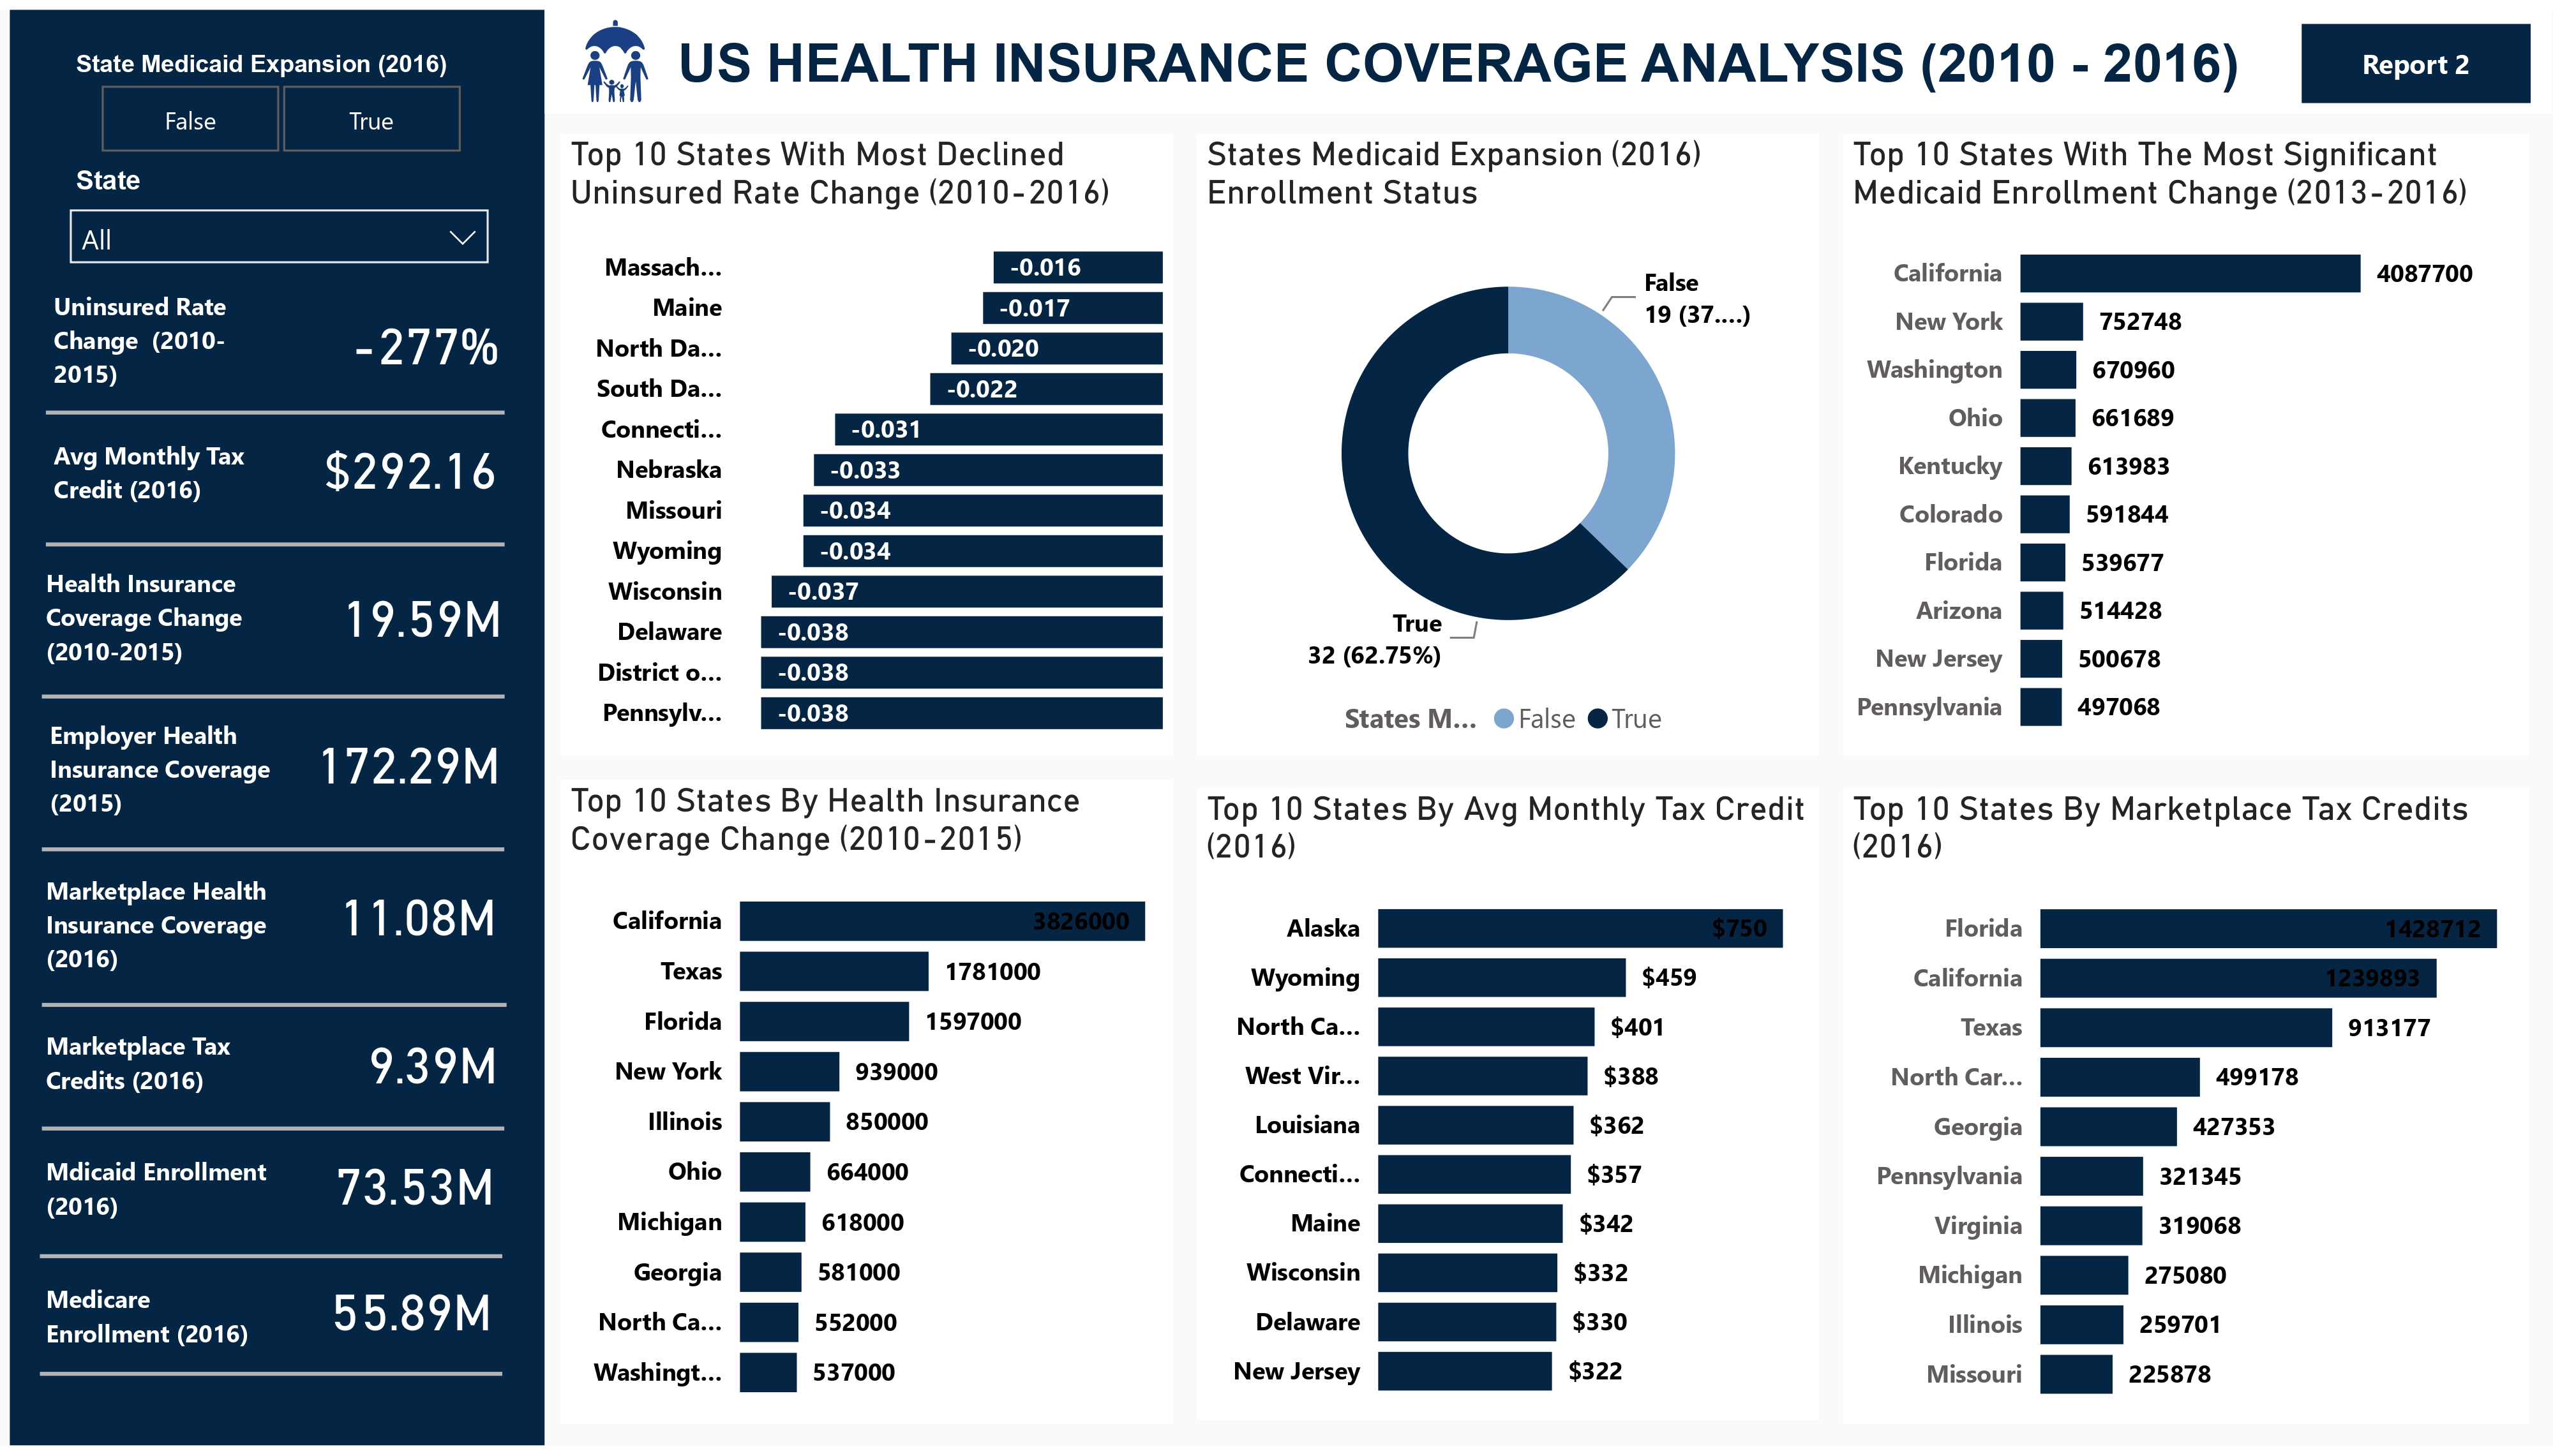

What the dashboard file says about the page in this screenshot:
{"tool":"powerbi","page":{"name":"REPORT 2","canvas":[1280,720],"ordinal":1},"visuals":[{"type":"shape","box":[5,0,268.4,719.7],"z":0},{"type":"card","fields":{"Values":["DAX.Avg Average Monthly Tax Credit (2016)"]},"box":[137.5,191.3,137.5,78],"z":1000},{"type":"card","fields":{"Values":["DAX.Formatted Health Insurance Coverage Change (2010-2015)"]},"box":[141.7,263.6,138.9,80.8],"z":2000},{"type":"card","fields":{"Values":["DAX.FORMATTED Employee Health Insurance Coverage (2015)"]},"box":[127.6,338.7,153.1,78],"z":3000},{"type":"card","fields":{"Values":["DAX.Formatted Marketplace Health Insurance Coverage (2016)"]},"box":[140.3,415.3,138.9,78],"z":4000},{"type":"shape","box":[23.3,249.6,230.4,36],"z":5000},{"type":"card","fields":{"Values":["DAX.Formatted Marketplace Tax Credit (2016)"]},"box":[146,487.6,141.7,80.8],"z":6000},{"type":"shape","box":[21.3,323.1,232.4,42.5],"z":7000},{"type":"shape","box":[21.3,399.9,231.8,41.8],"z":8000},{"type":"shape","box":[23.3,181.5,230.4,41.8],"z":9000},{"type":"shape","box":[21.3,477.6,233.3,41.8],"z":10000},{"type":"card","fields":{"Values":["DAX.Formatted Uninsured Rate Change (2010-2016)"]},"box":[144.6,127.6,136.1,79.4],"z":11000},{"type":"card","fields":{"Values":["DAX.Medicaid Enrollment (2016)"]},"box":[137.5,549.9,141.6,78.4],"z":12000},{"type":"textbox","box":[21.8,209.3,109.4,66.2],"z":13000},{"type":"textbox","box":[18.4,273.1,125.3,79.2],"z":14000},{"type":"textbox","box":[19.8,349.5,125.3,79.2],"z":15000},{"type":"textbox","box":[18.4,426.6,124.7,79.4],"z":16000},{"type":"textbox","box":[21.8,134,109.4,63.4],"z":17000},{"type":"textbox","box":[18.4,504.6,124.7,73.7],"z":18000},{"type":"shape","box":[21.3,540.3,231.8,41.8],"z":19000},{"type":"textbox","box":[18.4,568.4,125.3,60.5],"z":20000},{"type":"shape","box":[19.9,604.4,231.8,41.8],"z":21000},{"type":"card","fields":{"Values":["DAX.Medicare Enrollment (2016)"]},"box":[134.7,613.2,141.6,78.4],"z":22000},{"type":"textbox","box":[18.4,632.1,124.7,59.5],"z":23000},{"type":"shape","box":[19.9,663.3,231.8,41.8],"z":24000},{"type":"map","title":"Uninsured Rate Change By States (2010 - 2015)","fields":{"Category":["states.State"],"Size":["Sum(states.Uninsured Rate Change (2010-2015))"]},"box":[853.3,60.5,414.9,645],"z":25000},{"type":"barChart","title":"Top 10 States By Insurance Coverages, Medicaid and Medicare Enrollments (2015-2016)","fields":{"Category":["states.State"],"Y":["Sum(states.Employer Health Insurance Coverage (2015))","Sum(states.Marketplace Health Insurance Coverage (2016))","Sum(states.Medicaid Enrollment (2016))","Sum(states.Medicare Enrollment (2016))"]},"box":[282.2,60.5,556,645],"z":26000},{"type":"slicer","fields":{"Values":["states.State"]},"box":[24.7,72.9,229.6,64.6],"z":27000},{"type":"slicer","fields":{"Values":["states.State Medicaid Expansion (2016)"]},"box":[24.7,15.1,229.6,63.2],"z":28000},{"type":"shape","box":[273.4,0,1006.6,52],"z":29000},{"type":"textbox","box":[334.5,7.3,837.8,50.9],"z":30000},{"type":"image","box":[273.5,0,69.8,50.9],"z":31000},{"type":"actionButton","box":[1153.7,7.1,114.8,39.7],"z":33000}]}

Visuals, with their boxes in screenshot pixels (x1, y1, x2, y2), scaled from the page's 1280x720 canvas onto the 2553x1456 screenshot:
shape: (x1=10, y1=0, x2=545, y2=1455)
card - DAX.Avg Average Monthly Tax Credit (2016): (x1=274, y1=387, x2=548, y2=545)
card - DAX.Formatted Health Insurance Coverage Change (2010-2015): (x1=283, y1=533, x2=560, y2=697)
card - DAX.FORMATTED Employee Health Insurance Coverage (2015): (x1=255, y1=685, x2=560, y2=843)
card - DAX.Formatted Marketplace Health Insurance Coverage (2016): (x1=280, y1=840, x2=557, y2=997)
shape: (x1=47, y1=505, x2=506, y2=577)
card - DAX.Formatted Marketplace Tax Credit (2016): (x1=291, y1=986, x2=574, y2=1150)
shape: (x1=43, y1=653, x2=506, y2=739)
shape: (x1=43, y1=808, x2=505, y2=893)
shape: (x1=47, y1=367, x2=506, y2=452)
shape: (x1=43, y1=966, x2=508, y2=1050)
card - DAX.Formatted Uninsured Rate Change (2010-2016): (x1=288, y1=258, x2=560, y2=419)
card - DAX.Medicaid Enrollment (2016): (x1=274, y1=1112, x2=557, y2=1270)
textbox: (x1=43, y1=423, x2=262, y2=557)
textbox: (x1=36, y1=553, x2=287, y2=713)
textbox: (x1=40, y1=707, x2=289, y2=867)
textbox: (x1=36, y1=863, x2=285, y2=1023)
textbox: (x1=43, y1=271, x2=262, y2=399)
textbox: (x1=36, y1=1020, x2=285, y2=1170)
shape: (x1=43, y1=1092, x2=505, y2=1177)
textbox: (x1=36, y1=1150, x2=287, y2=1272)
shape: (x1=40, y1=1222, x2=502, y2=1307)
card - DAX.Medicare Enrollment (2016): (x1=269, y1=1240, x2=551, y2=1399)
textbox: (x1=36, y1=1278, x2=285, y2=1399)
shape: (x1=40, y1=1341, x2=502, y2=1426)
"Uninsured Rate Change By States (2010 - 2015)" map: (x1=1702, y1=123, x2=2529, y2=1427)
"Top 10 States By Insurance Coverages, Medicaid and Medicare Enrollments (2015-2016)" barChart: (x1=563, y1=123, x2=1672, y2=1427)
slicer - states.State: (x1=49, y1=147, x2=507, y2=278)
slicer - states.State Medicaid Expansion (2016): (x1=49, y1=31, x2=507, y2=158)
shape: (x1=545, y1=0, x2=2552, y2=105)
textbox: (x1=667, y1=15, x2=2338, y2=117)
image: (x1=546, y1=0, x2=685, y2=103)
actionButton: (x1=2301, y1=15, x2=2530, y2=94)
